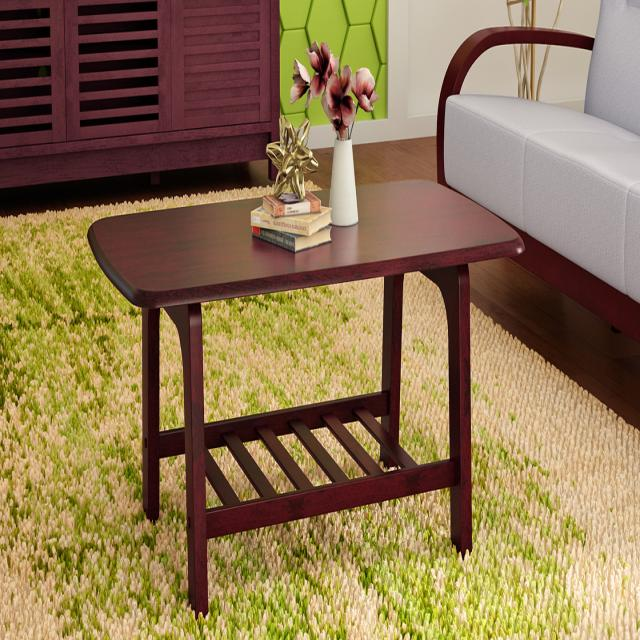obstacle: (78, 160, 556, 631)
